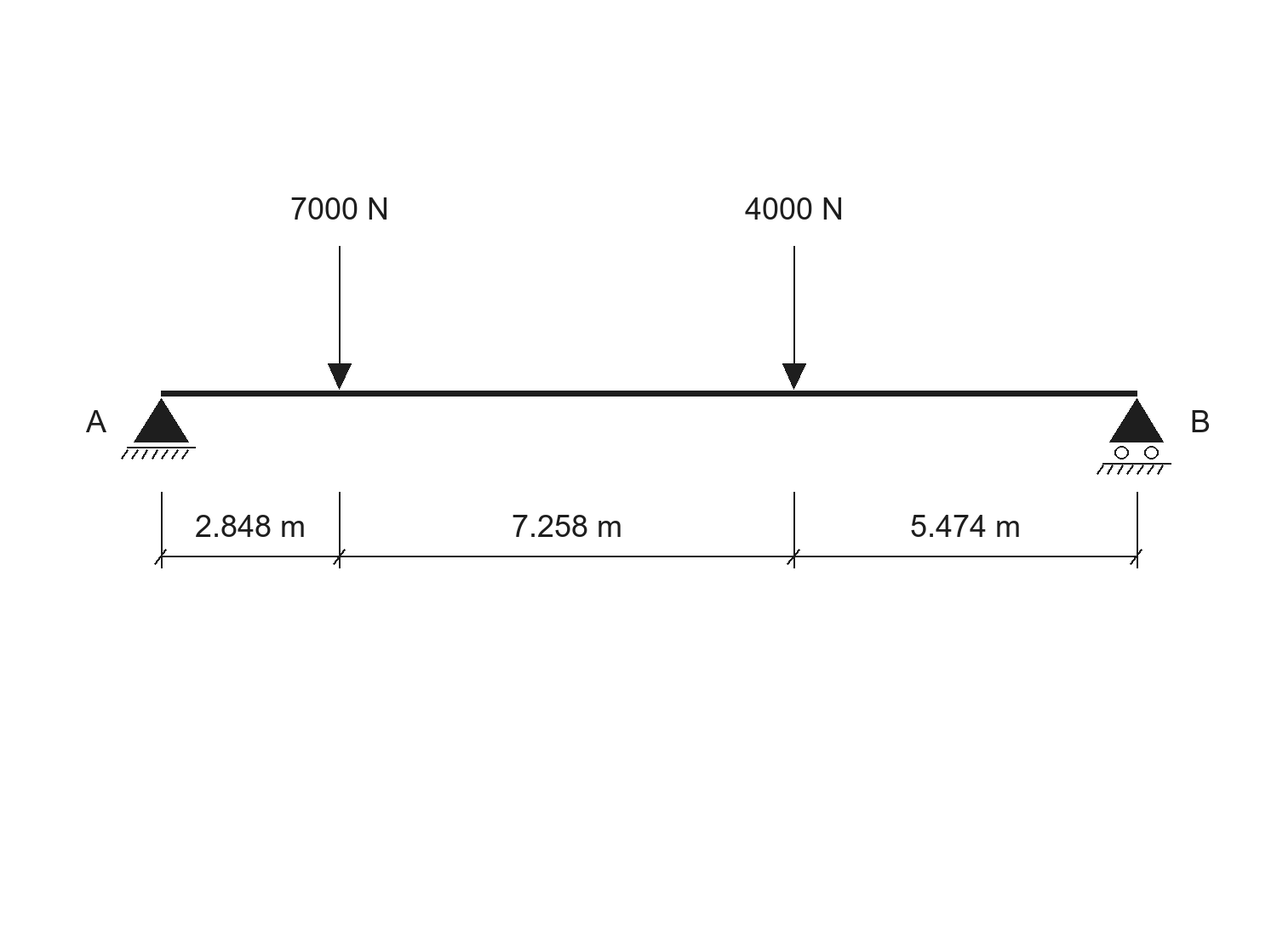pin_support: (121, 398, 196, 459)
point_load: (328, 246, 352, 390), (782, 246, 806, 390)
roller_support: (1097, 398, 1171, 475)
